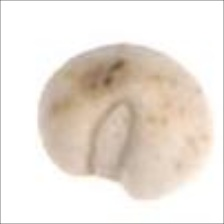L5: (83, 97, 145, 181), (106, 39, 191, 77)
L6: (31, 41, 215, 205)
